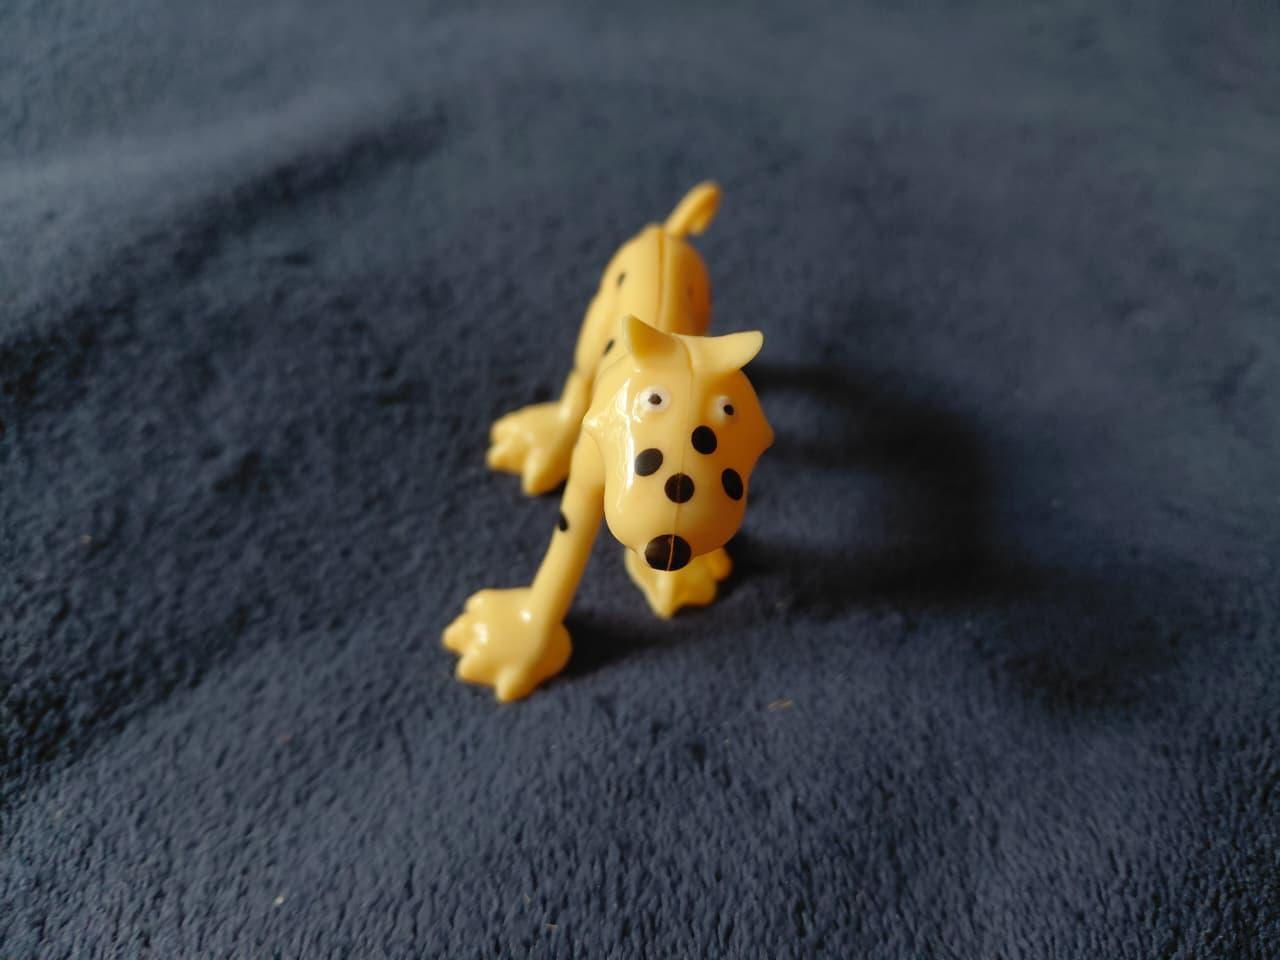cheetah: (430, 172, 797, 702)
